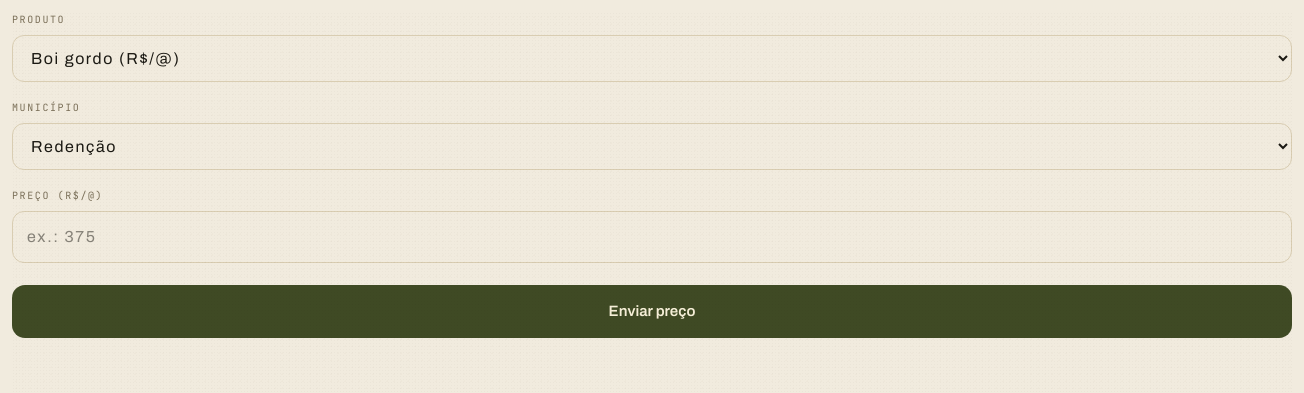
Test: FormReporte › mostra o erro da API (faixa ou limite)
Type "320" into the field labelled "Preço (R$/@)".
click(652, 237); type("320")  # box [12,211,1292,263]
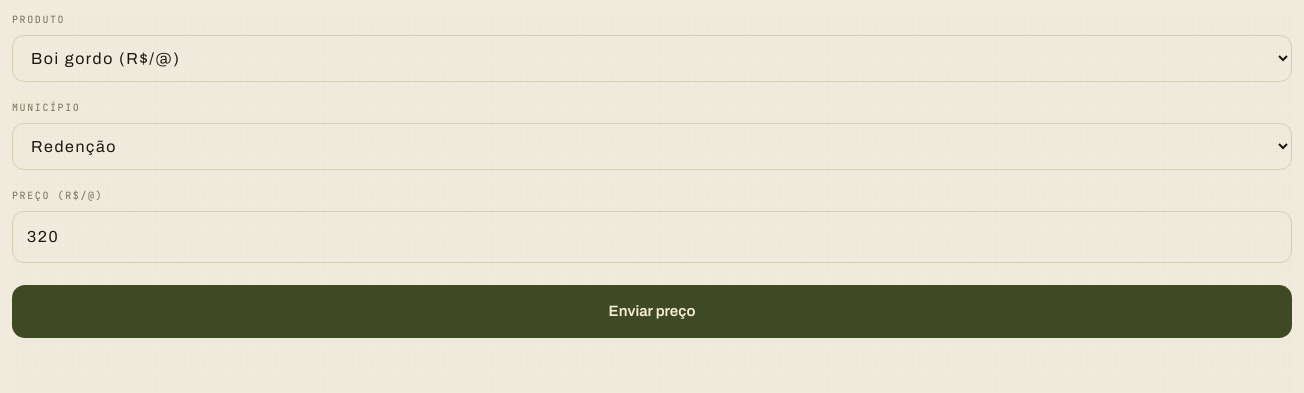
Click the button "Enviar preço".
click(652, 311)  # box [12,285,1292,338]
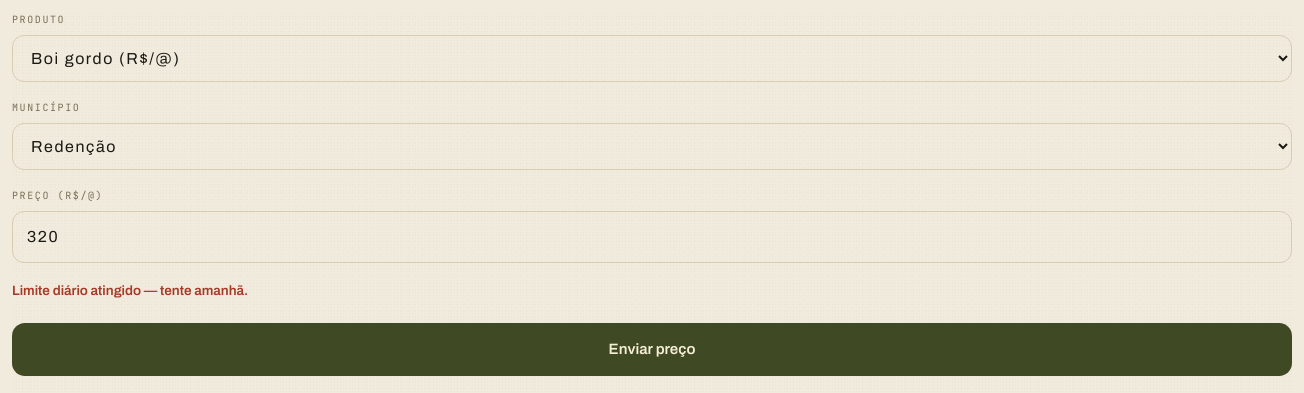
Expected: the text "Limite diário atingido — tente amanhã." is shown, [12,283,248,298]
